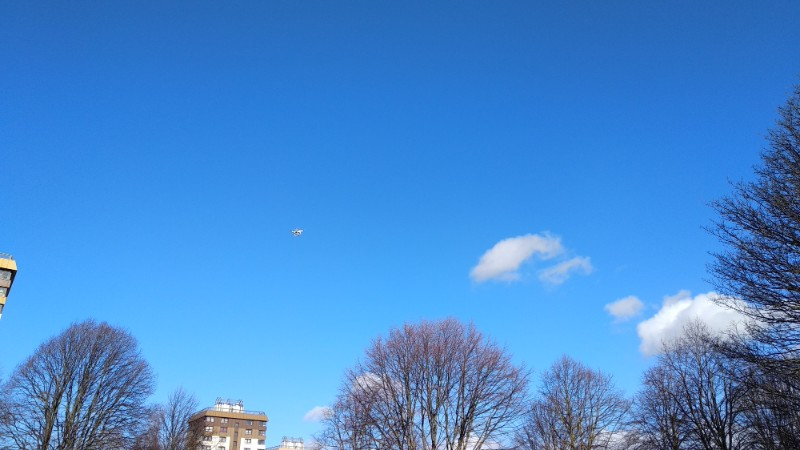drone: (289, 228, 305, 237)
